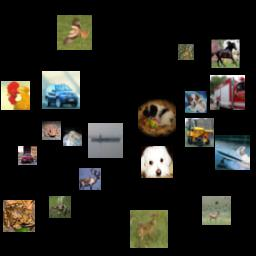automobile: (42, 71, 80, 109), (18, 146, 37, 165)
bird: (57, 15, 92, 50), (1, 81, 30, 110)
deer: (130, 210, 168, 248), (202, 196, 231, 225), (79, 168, 101, 190), (178, 44, 194, 60)
dog: (138, 99, 176, 137), (141, 146, 173, 178), (185, 91, 207, 113), (63, 127, 82, 146)
frog: (3, 200, 35, 232), (49, 196, 71, 218), (42, 121, 61, 140)
ship: (215, 135, 250, 170), (88, 123, 123, 158)
truck: (210, 75, 245, 110), (185, 118, 214, 147)
